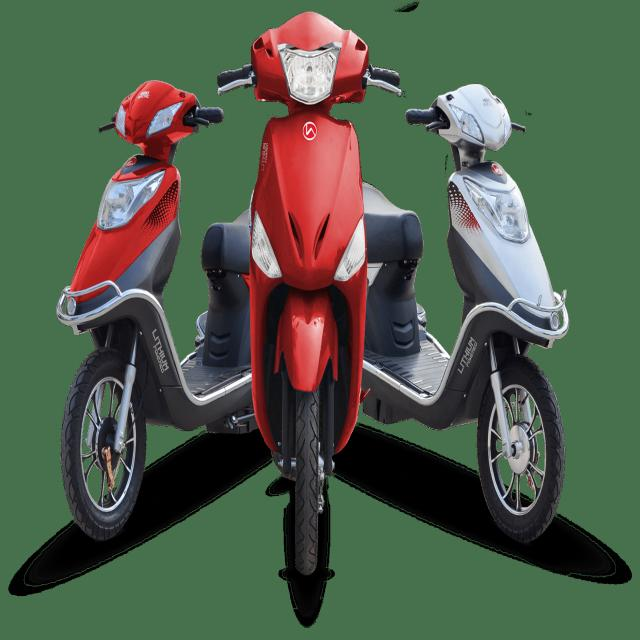motorcycle: (218, 13, 400, 576), (361, 85, 569, 542), (56, 80, 256, 542)
